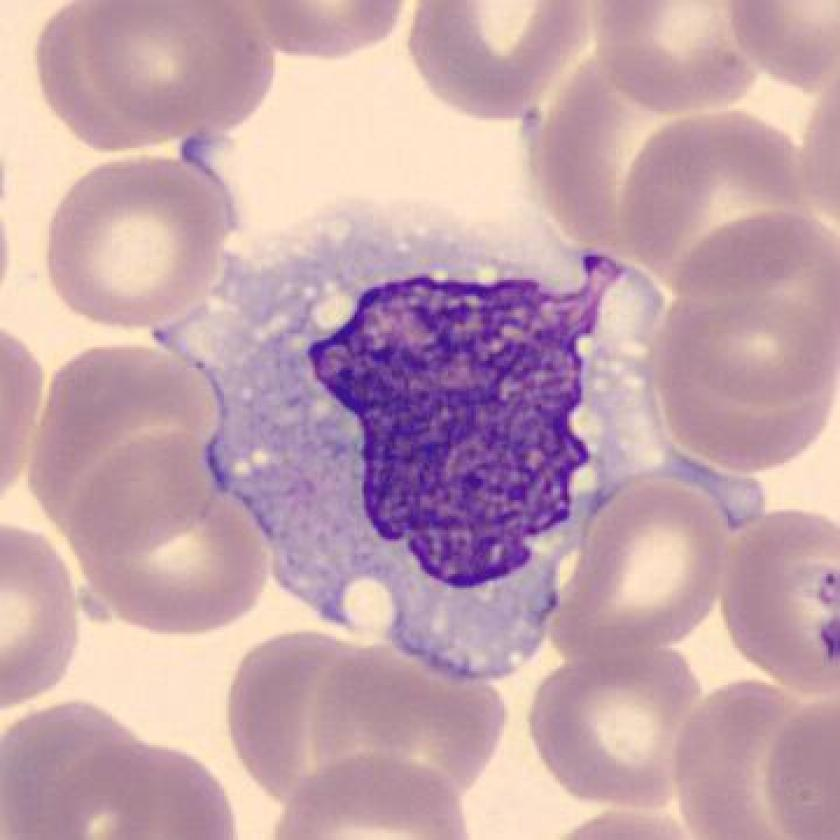monocyte: (141, 193, 706, 688)
